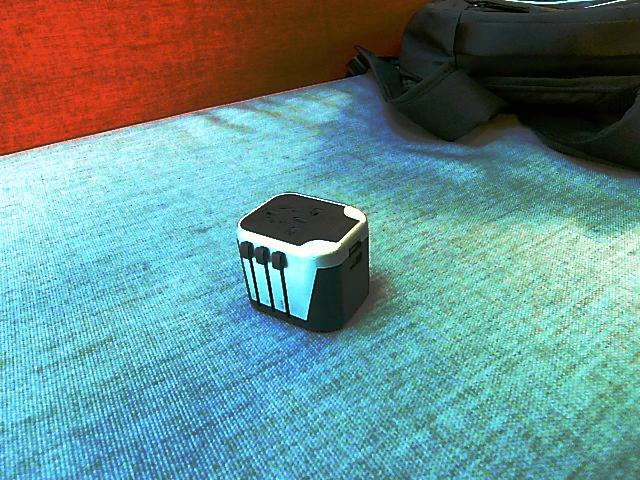adapter: (234, 191, 370, 333)
